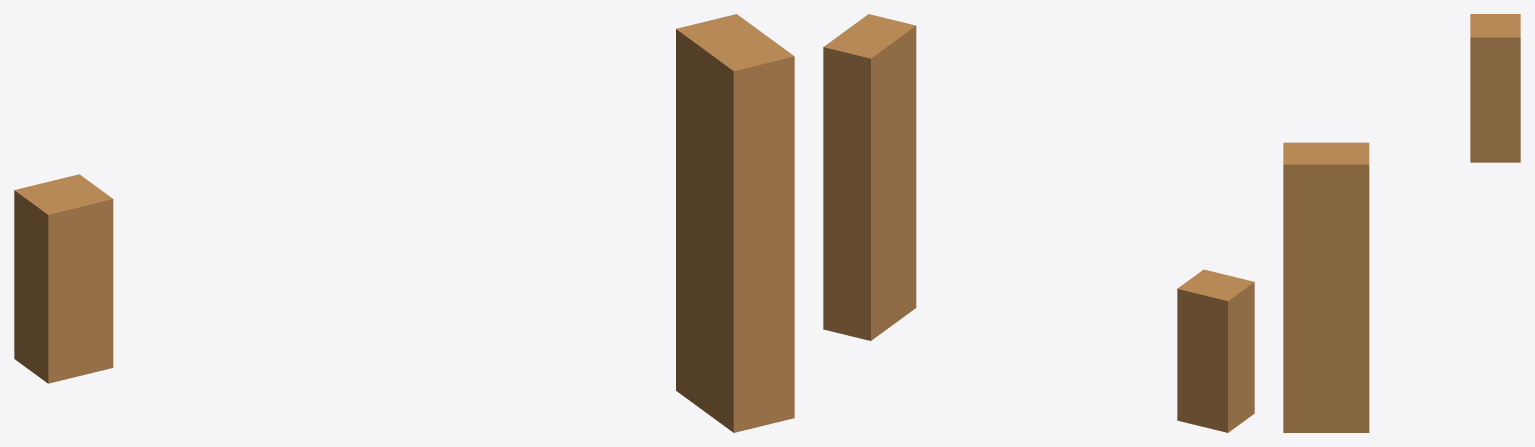
3 views of the same model, side by side, from view 1: azimuth 30°, elevation 25°; view 2: azimuth 150°, elevation 25°; view 3: azimuth 270°, elevation 25° (orthographic). The views are drawn at different scales.
Parts seen in each view (by area): view 1: door_0, window_0; view 2: door_0, window_0; view 3: door_0, window_0.
Boxes of the visible parts, x1,y1,x2,y2 form: door_0: [676, 14, 794, 432]; window_0: [14, 174, 113, 383]; door_0: [823, 14, 916, 340]; window_0: [1177, 269, 1254, 432]; door_0: [1283, 142, 1369, 432]; window_0: [1470, 14, 1520, 162].
Size of the model in its own units: 8.71 by 4.86 by 3.89.
